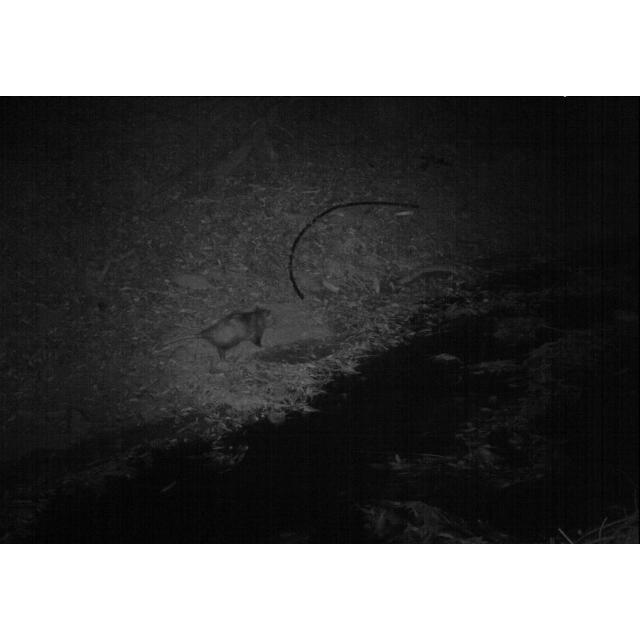animals: (192, 304, 276, 358)
